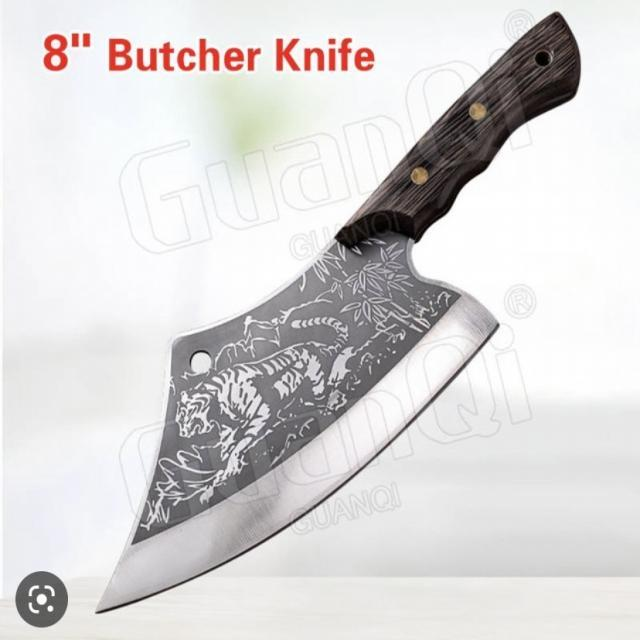Knife: (29, 7, 620, 635)
